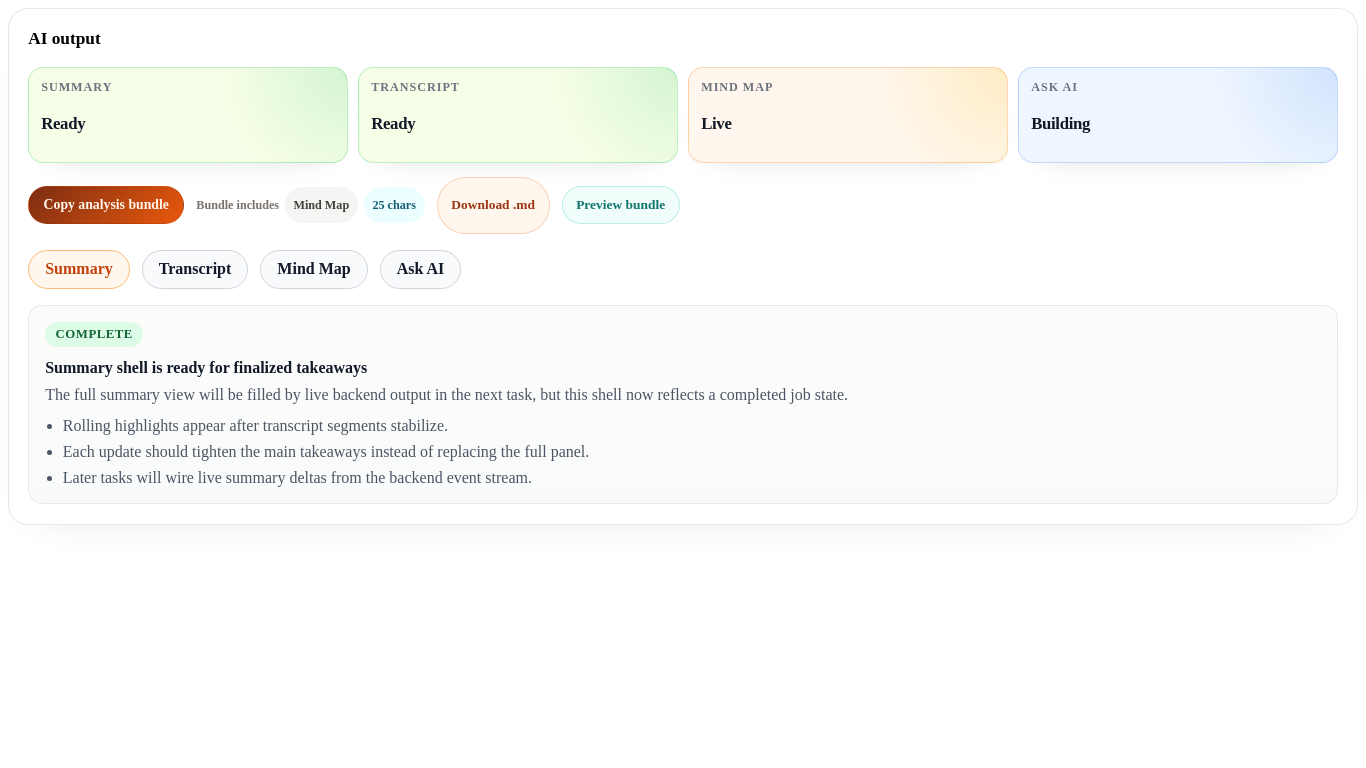
expands and collapses a structured mind map branch
Click the tab "Mind Map" at (314, 269), box x1=260 y1=250 x2=368 y2=289
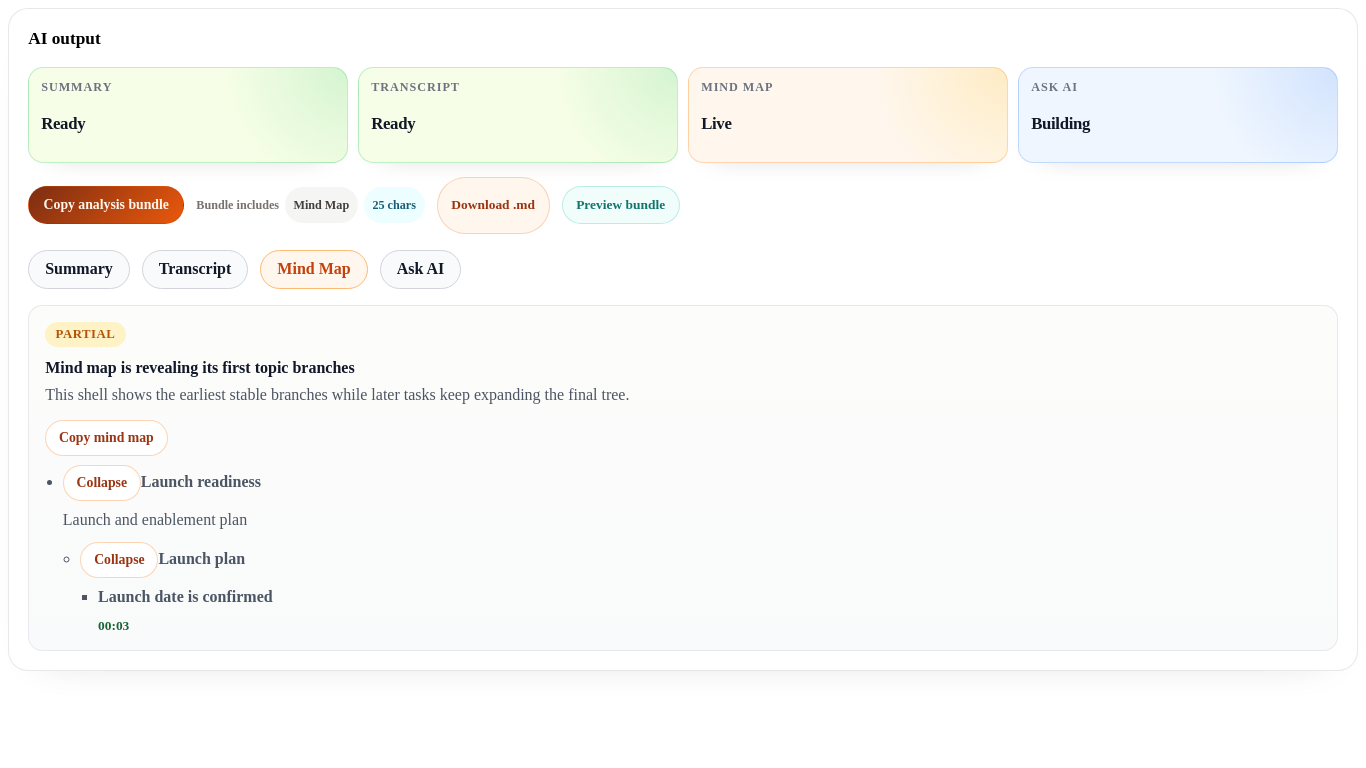
expect the list named "Structured mind map tree" is shown: met, box x1=63 y1=465 x2=273 y2=633
expect the text "Launch readiness" is shown: met, box x1=141 y1=473 x2=261 y2=490
expect the text "Launch date is confirmed" is shown: met, box x1=98 y1=588 x2=273 y2=605
Click the button with aria-label "Collapse Launch plan" at (119, 560), box x1=80 y1=542 x2=158 y2=578
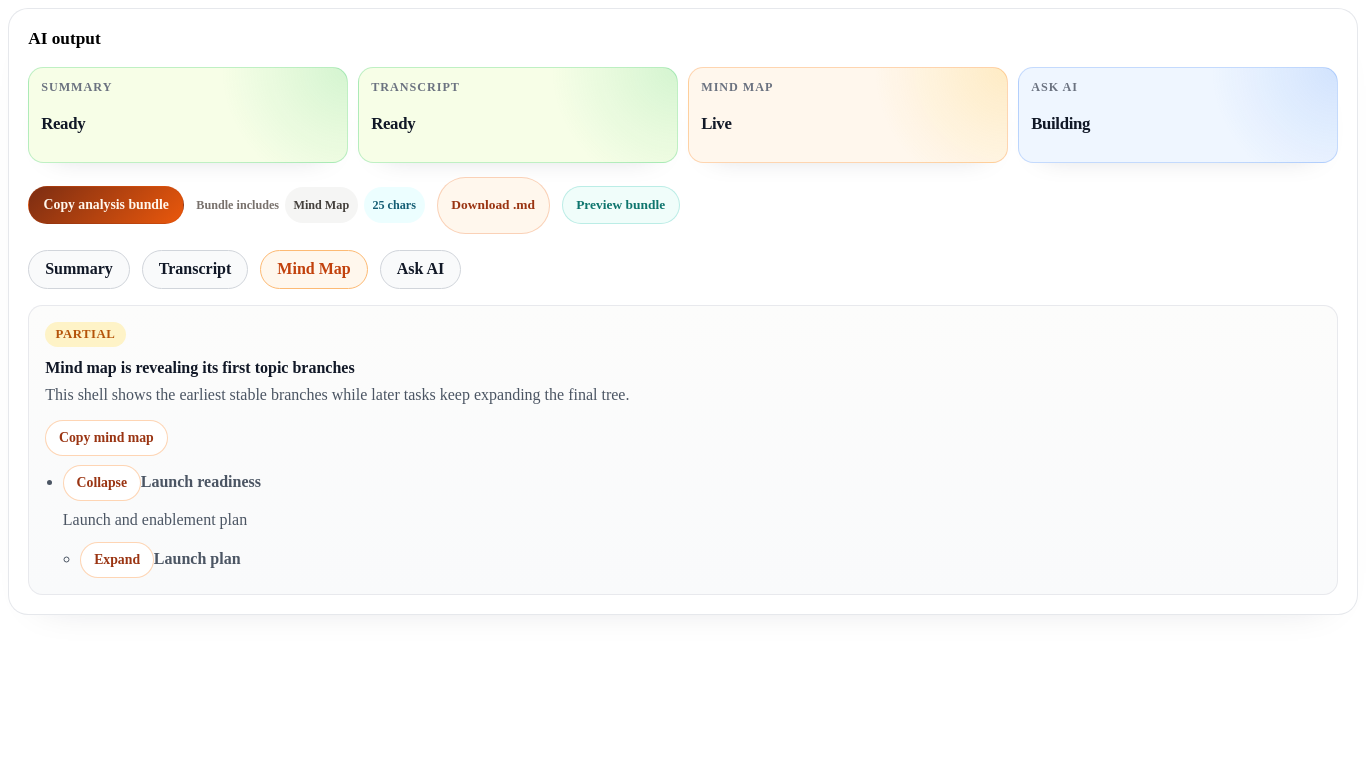
expect the button named "Collapse Launch plan" is collapsed: met
expect the text "Launch date is confirmed" is gone: met
Click the button named "Collapse Launch plan" at (117, 560), box x1=80 y1=542 x2=154 y2=578
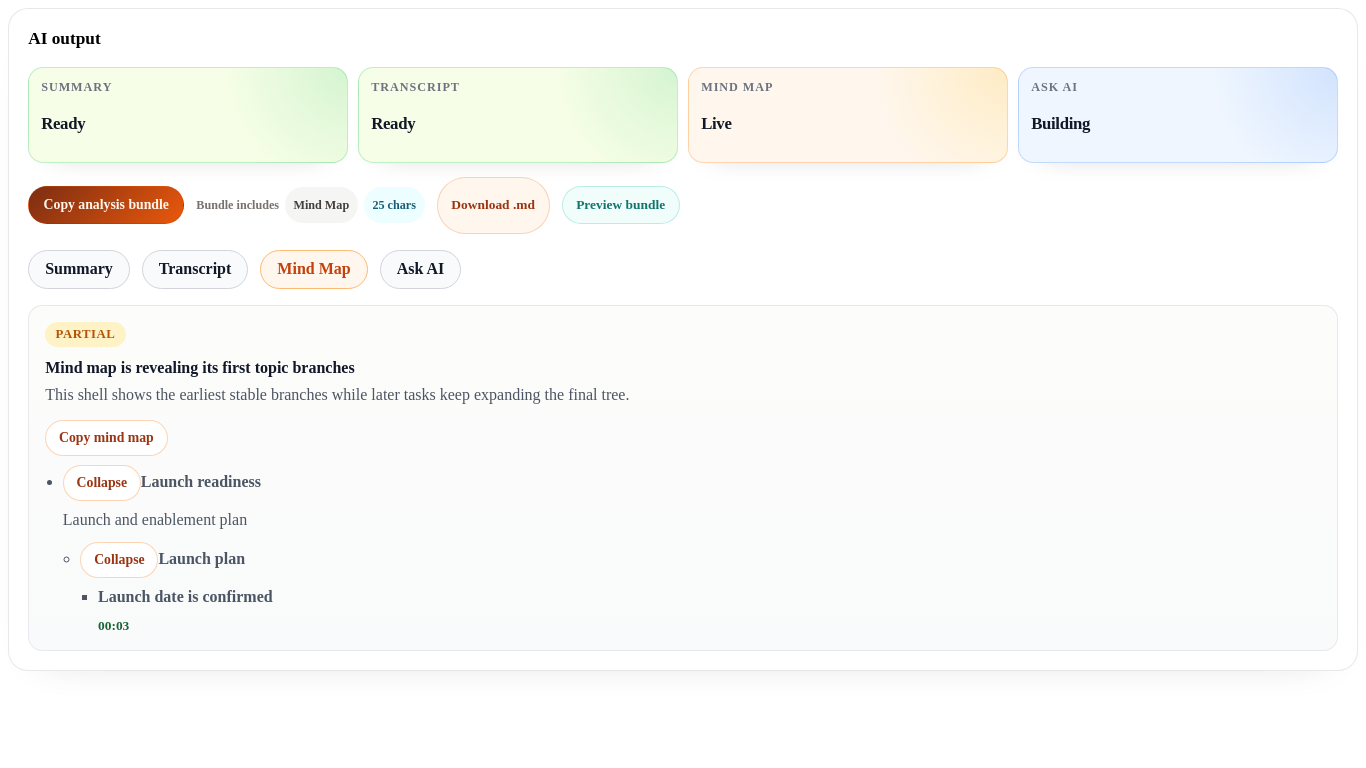
expect the button with aria-label "Collapse Launch plan" is expanded: met, box x1=80 y1=542 x2=158 y2=578
expect the text "Launch date is confirmed" is shown: met, box x1=98 y1=588 x2=273 y2=605
